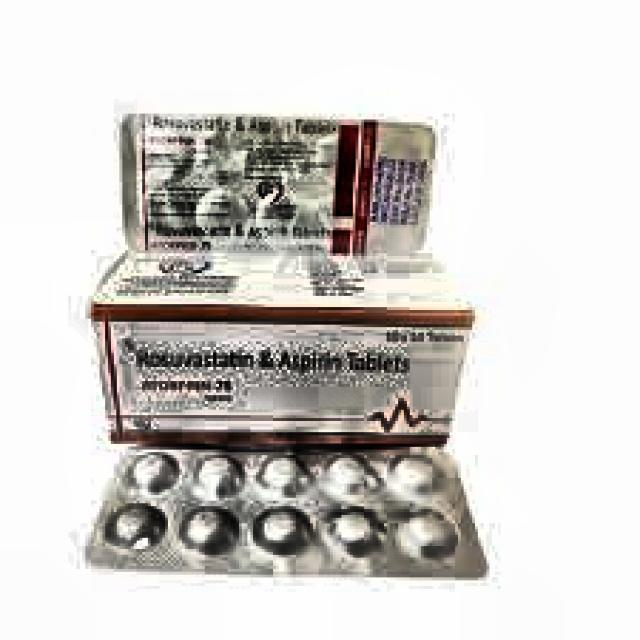Aspirin: (94, 308, 459, 443)
